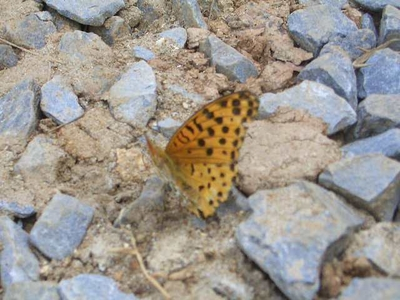Argyreus hyperbius: (139, 83, 260, 221)
butterfly: (141, 85, 262, 223)
